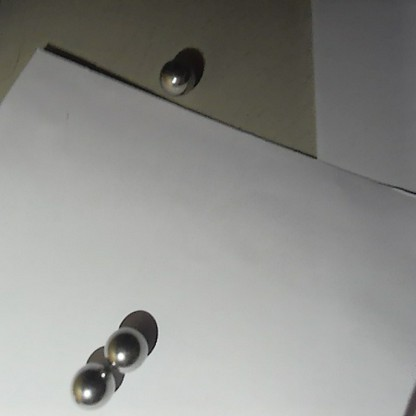ironball: (20, 266, 69, 315), (46, 226, 98, 271), (0, 286, 31, 347), (0, 89, 21, 134)
